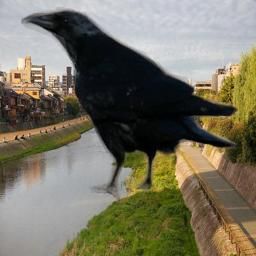Crow: (21, 7, 238, 204)
